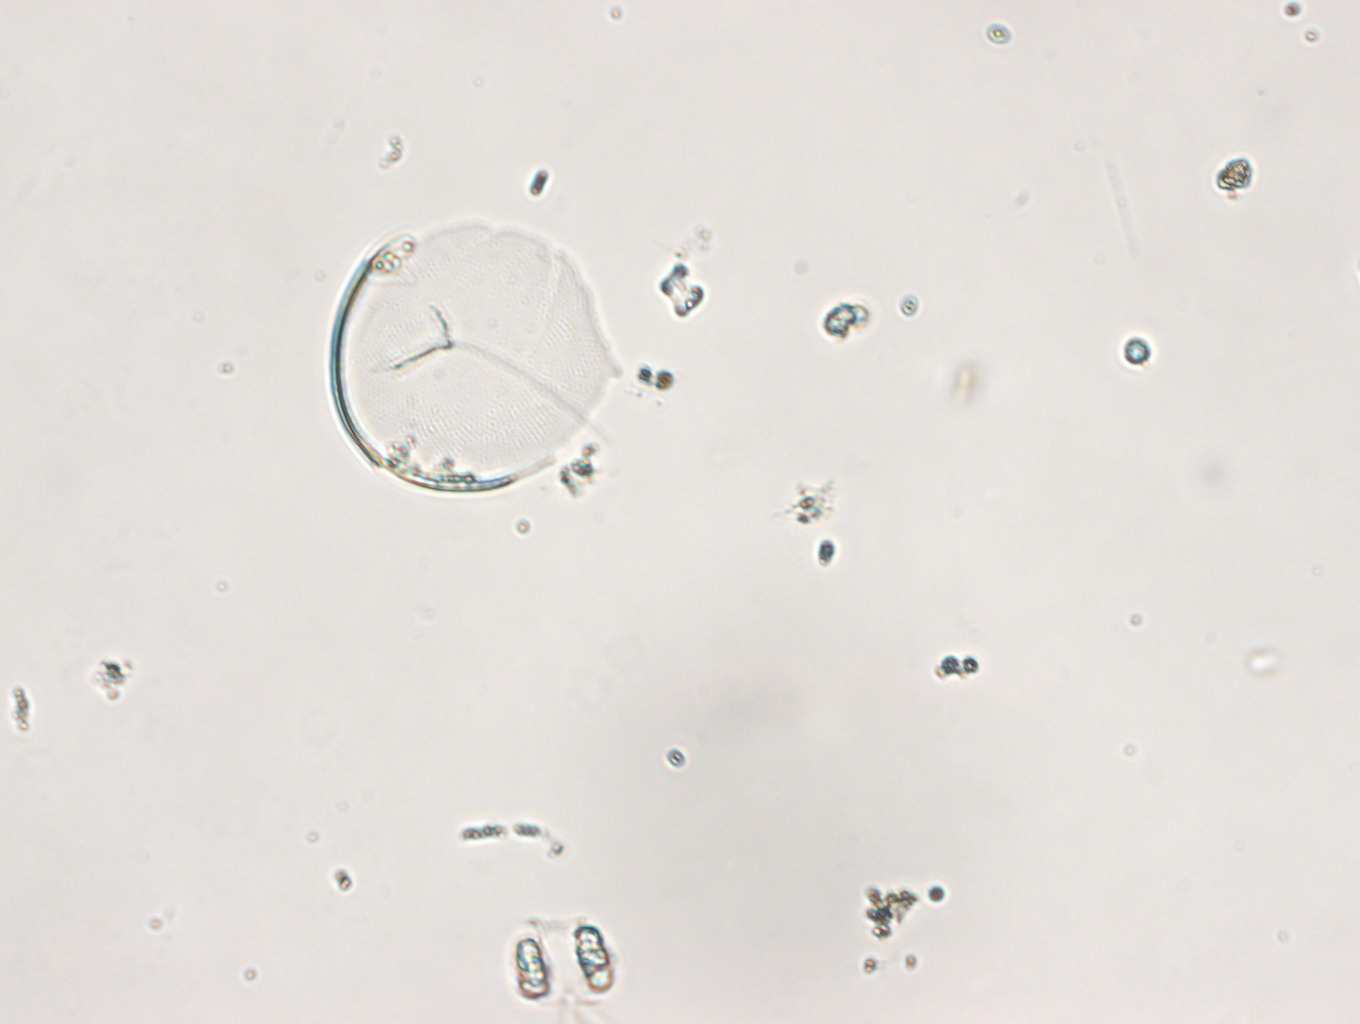coscinodiscus: (325, 208, 621, 500)
